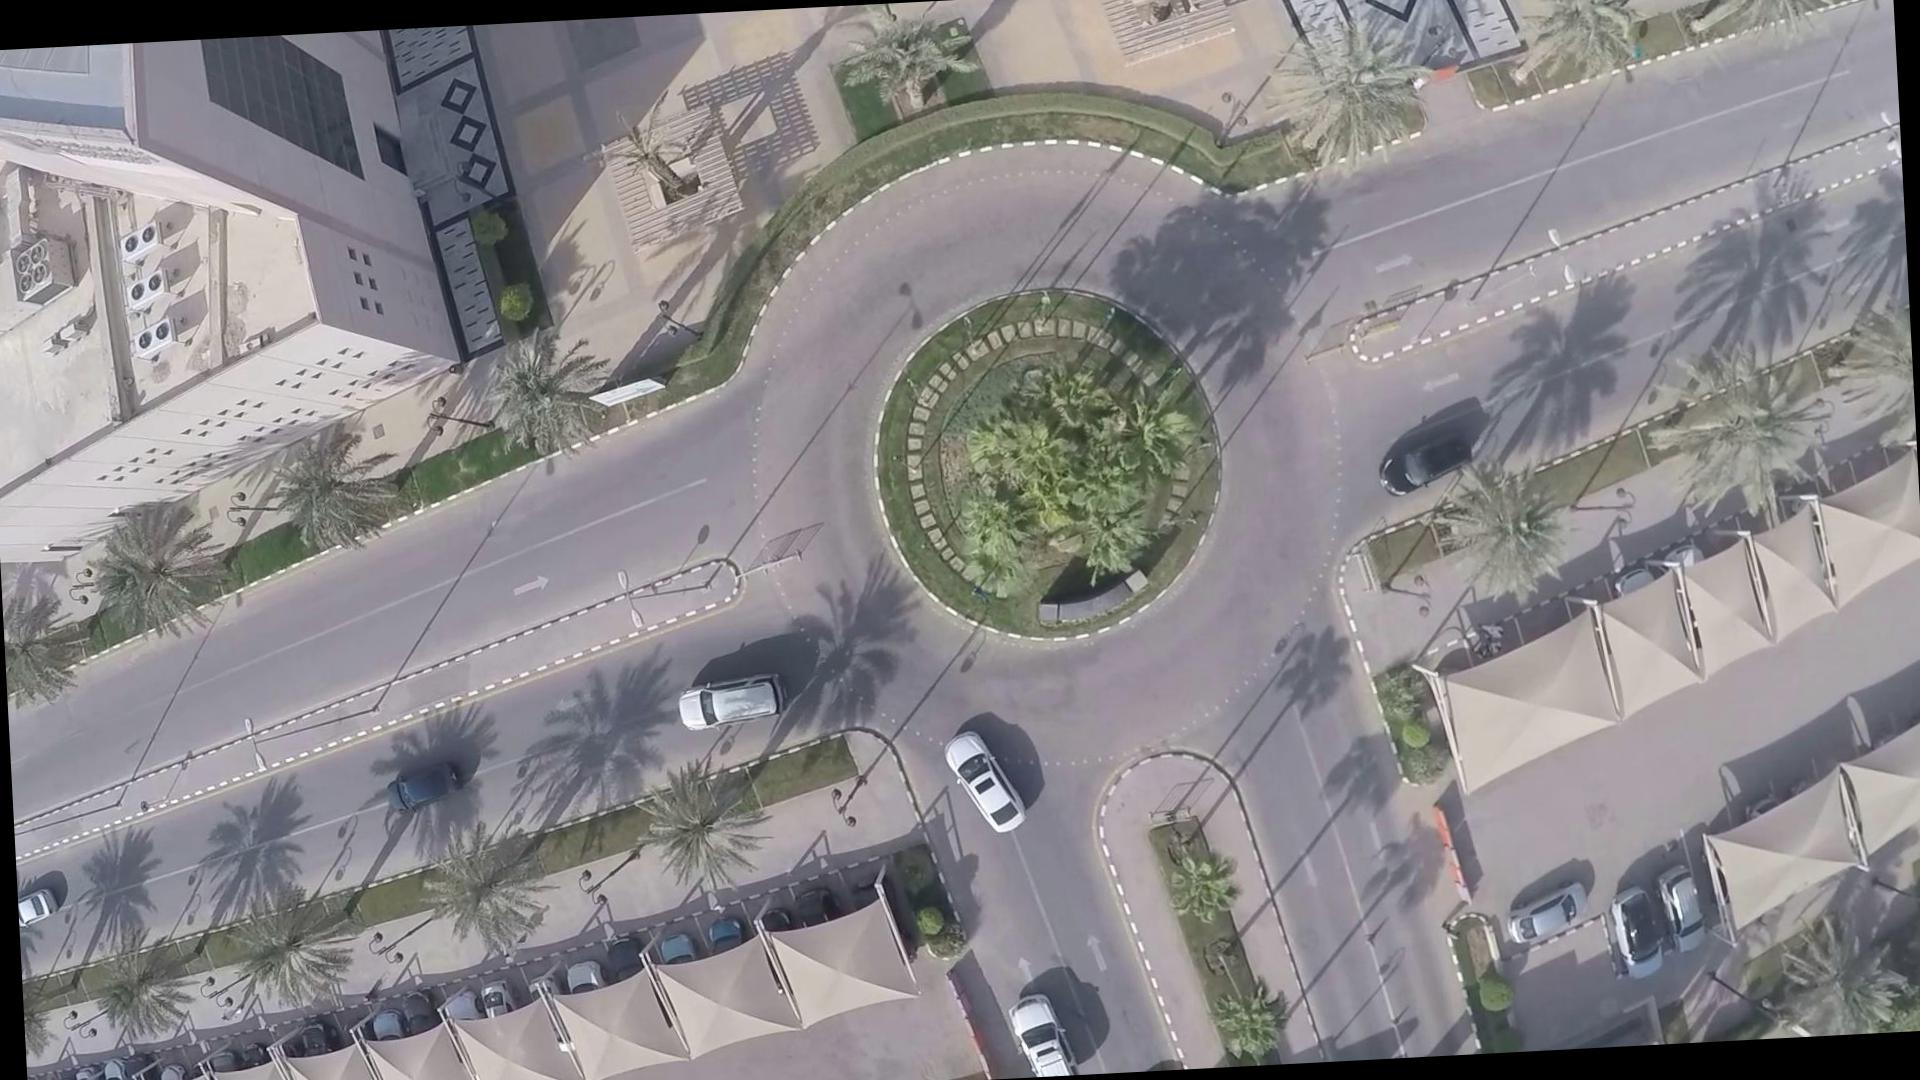vehicle: (925, 728, 1031, 845), (667, 672, 787, 738), (1382, 418, 1482, 494), (386, 754, 486, 818), (1003, 989, 1075, 1077), (16, 883, 72, 923)
